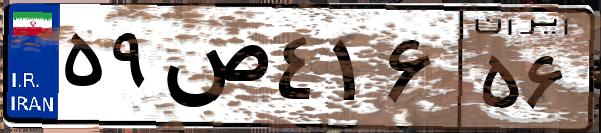1: (330, 28, 385, 110)
4: (270, 28, 330, 110)
5: (57, 26, 110, 100), (475, 38, 525, 113)
6: (385, 28, 445, 110), (525, 38, 570, 115)
9: (110, 28, 158, 98)
ص: (158, 20, 270, 120)
